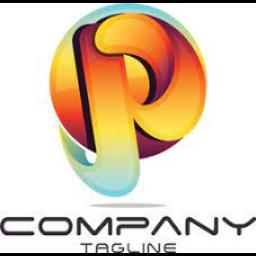a: (150, 215, 184, 239), (94, 241, 110, 253)
c: (0, 214, 38, 240)
e: (162, 241, 178, 253)
g: (110, 241, 126, 253)
i: (220, 215, 256, 237), (142, 241, 146, 253)
l: (126, 241, 140, 253)
m: (76, 214, 114, 238)
n: (184, 216, 220, 238), (146, 241, 162, 253)
o: (37, 216, 75, 238)
p: (56, 12, 212, 202), (115, 215, 151, 237)
t: (78, 242, 94, 254)
